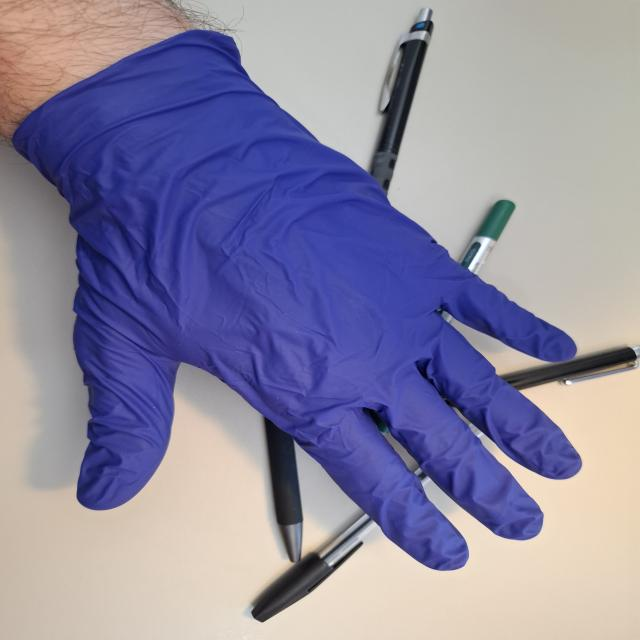glove_on: (12, 27, 584, 574)
